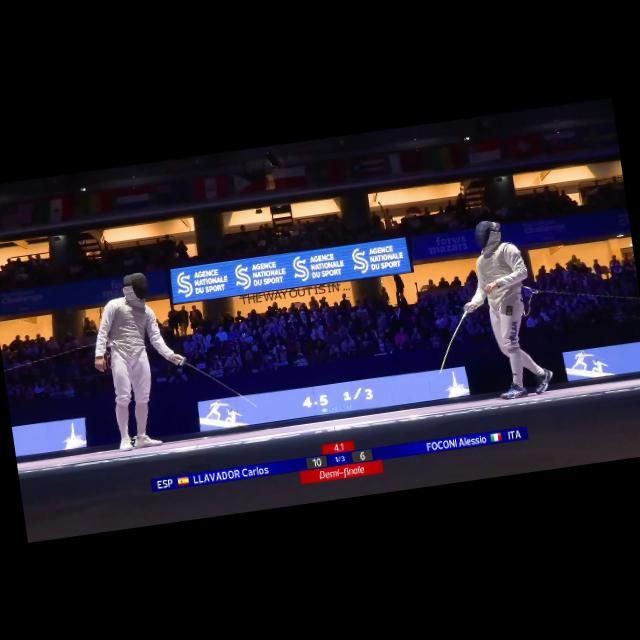blade: (178, 346, 260, 420), (427, 302, 483, 379)
